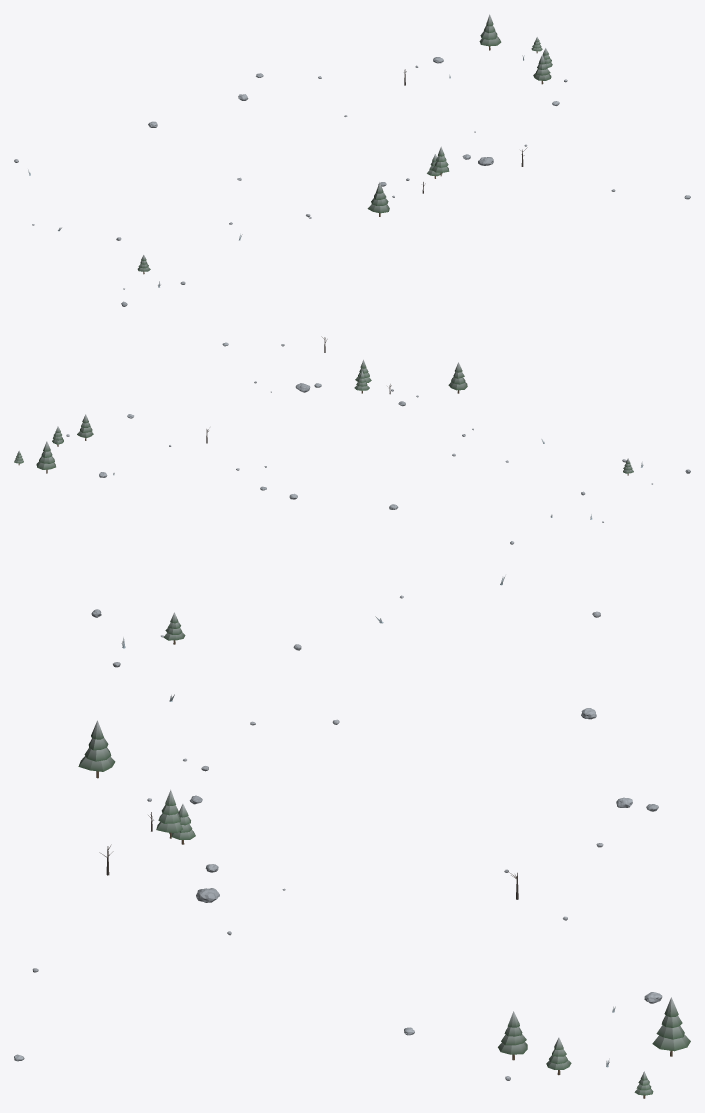
Rendered from frost_land_scatter_c21_10.glb.
3 renders of one model, top to bottom at view 1: azimuth 30°, elevation 25°; view 2: azimuth 150°, elevation 25°; view 3: azimuth 270°, elevation 25°, orthographic. The views are drawn at different scales.
Parts seen in each view (by area): view 1: frost_land_scatter_c21_10; view 2: frost_land_scatter_c21_10; view 3: frost_land_scatter_c21_10.
Boxes of the visible parts, <box> form: frost_land_scatter_c21_10: <box>14,14,690,306</box>; frost_land_scatter_c21_10: <box>14,336,690,544</box>; frost_land_scatter_c21_10: <box>14,575,690,1098</box>.
Size of the model in its own units: 257 by 30.23 by 156.
